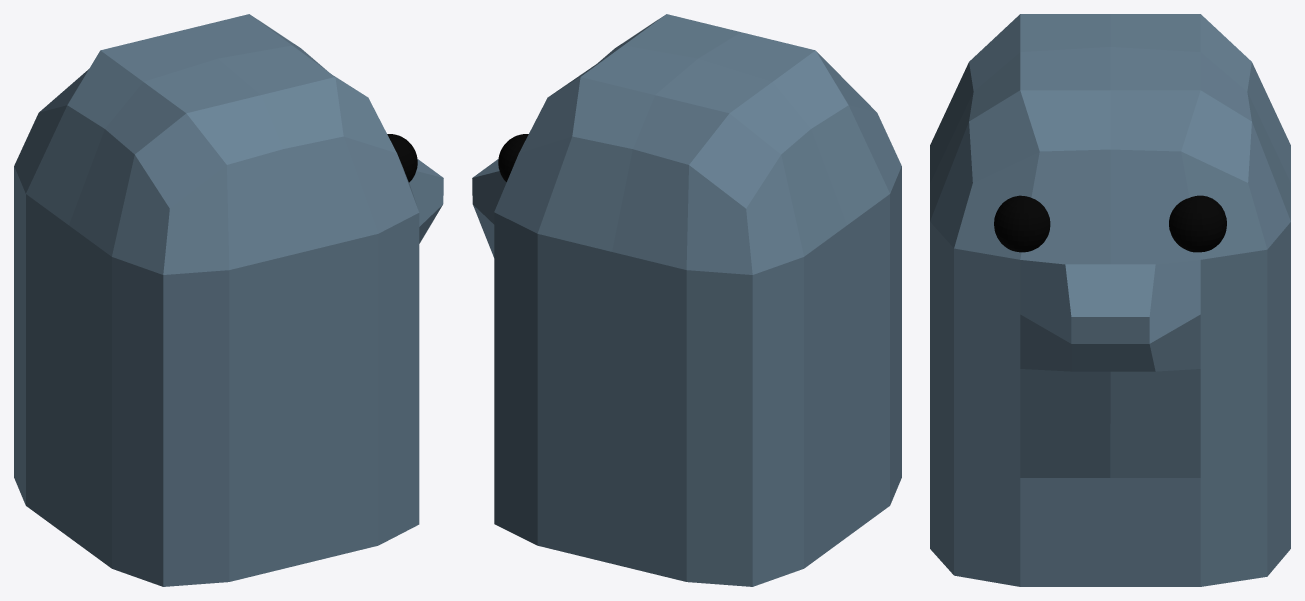
Rendered from Seal.fbx.
The picture shows the model from 3 angles, left to right: view 1: azimuth 30°, elevation 25°; view 2: azimuth 150°, elevation 25°; view 3: azimuth 270°, elevation 25°; orthographic projection. The views are drawn at different scales.
Parts seen in each view (by area): view 1: Cube, Sphere; view 2: Cube, Sphere; view 3: Cube, Sphere.
Part boxes in pixels (box(x1,y1,x2,y2)): Cube: box(14, 14, 443, 586); Sphere: box(387, 134, 417, 182); Cube: box(472, 14, 901, 586); Sphere: box(498, 134, 528, 181); Cube: box(930, 14, 1290, 586); Sphere: box(994, 195, 1226, 252).
Size of the model in its own units: 359 by 425 by 300.
